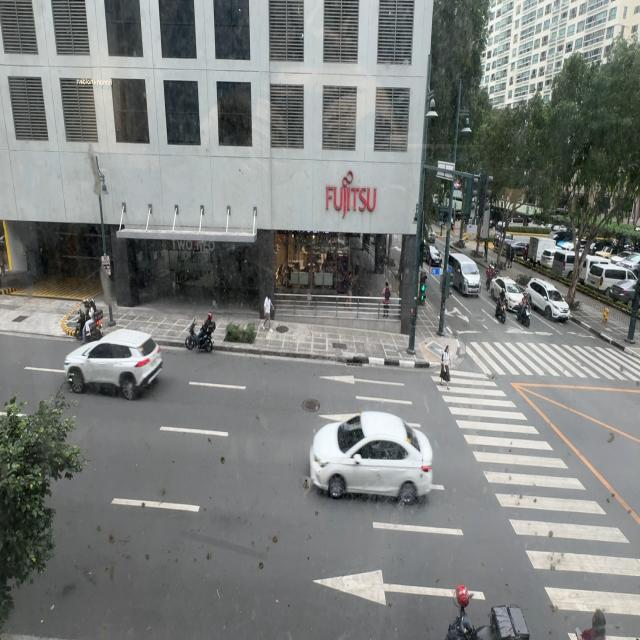crossing: (440, 346, 452, 388)
pedestrain: (263, 294, 274, 333), (382, 282, 391, 318)
